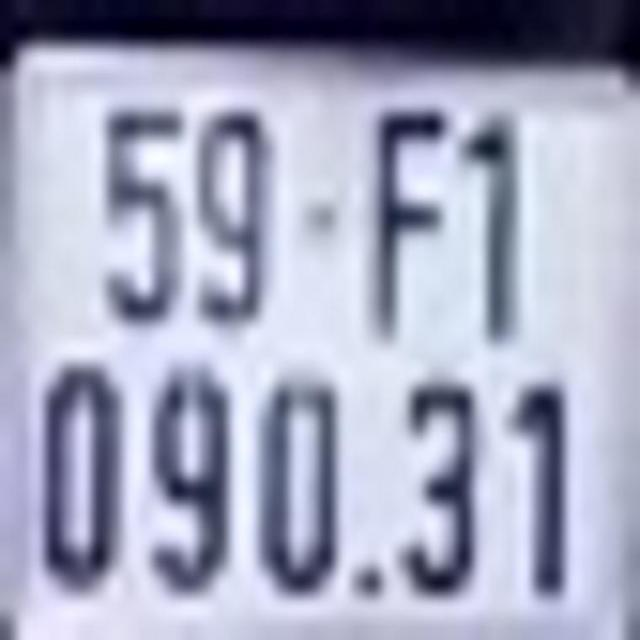0: (41, 345, 123, 593), (258, 370, 344, 597)
1: (501, 355, 574, 599), (461, 104, 527, 338)
3: (398, 377, 477, 593)
5: (98, 92, 185, 326)
9: (144, 360, 233, 589), (188, 97, 272, 330)
F: (366, 86, 453, 350)
